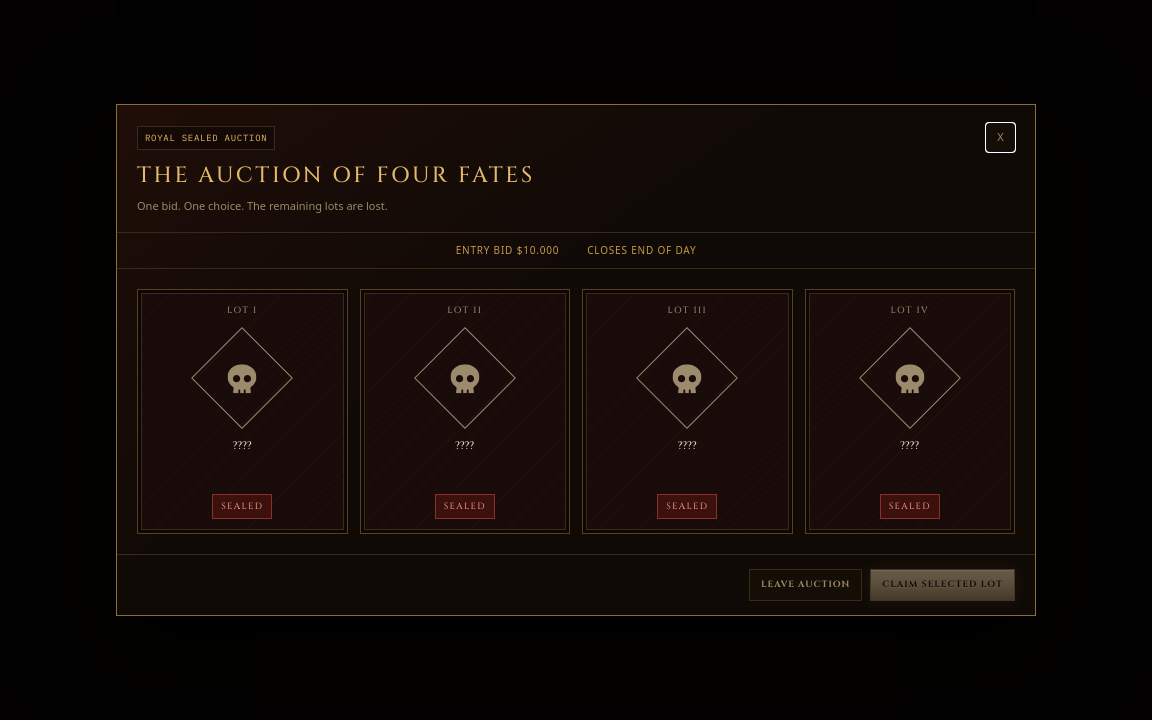
Phase 6A.1 desktop UX › reveals one auction reward, marks three lots LOST and never exposes their content
Click the button "LOT II ???? SEALED".
click(465, 412)  # box [360,289,570,534]
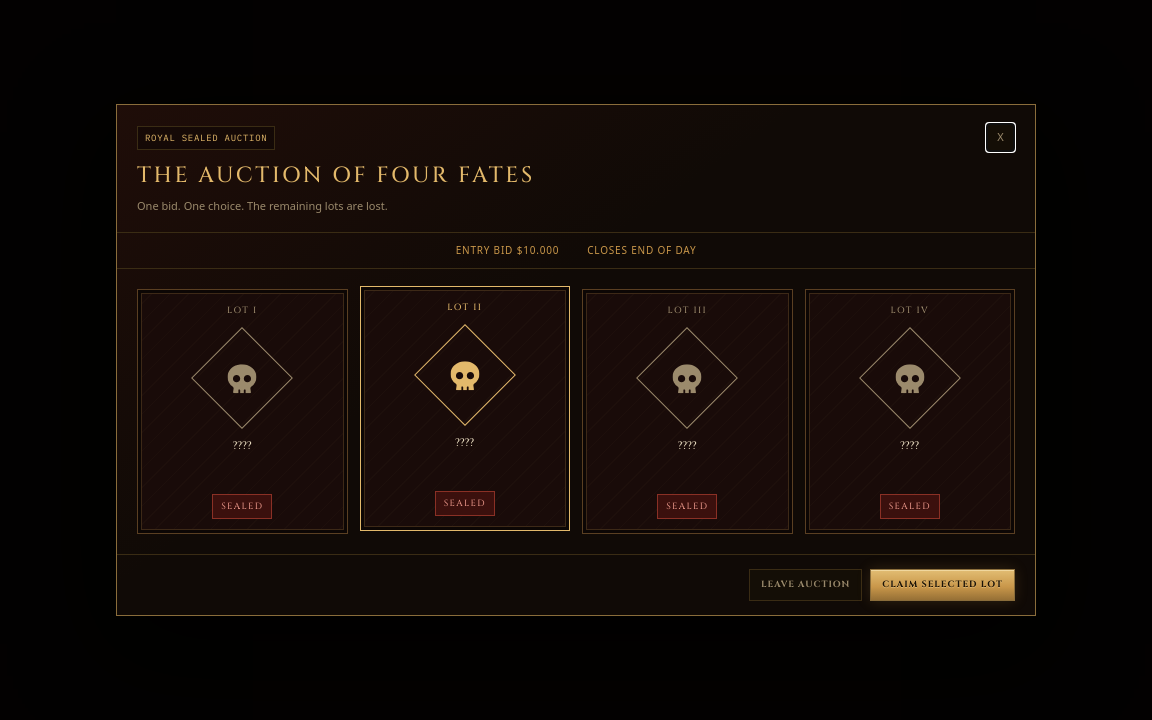
Click the button "CLAIM SELECTED LOT".
click(943, 585)  # box [870,569,1015,601]
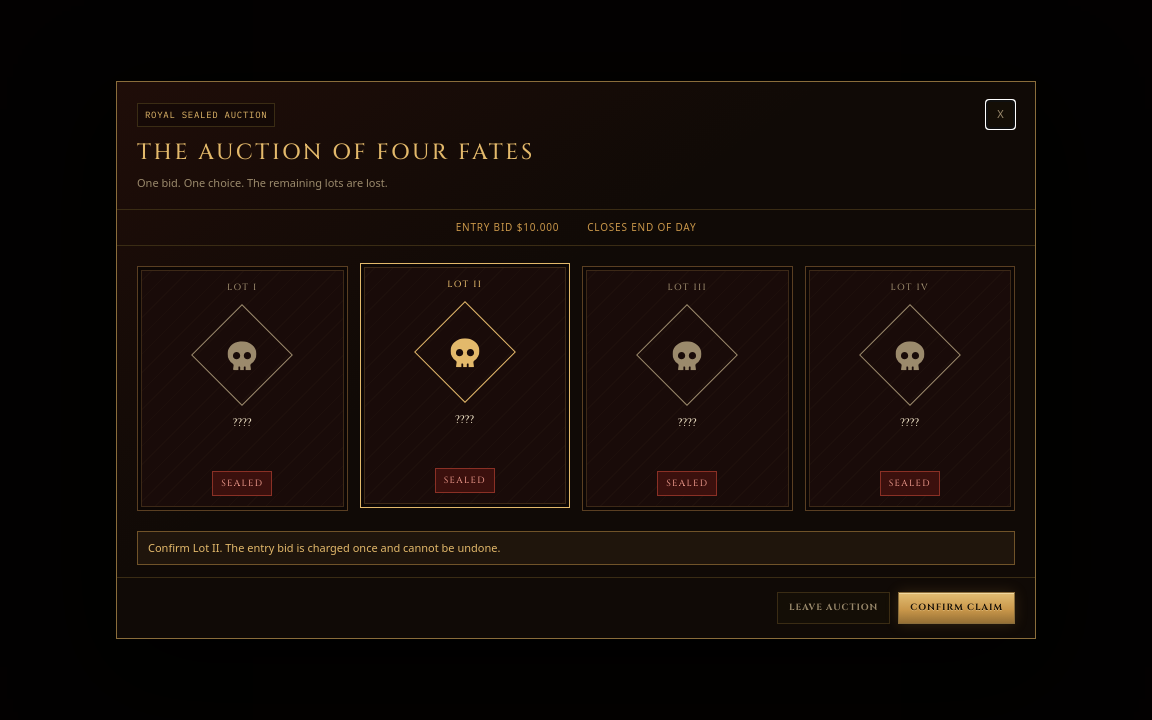
Click the button "CONFIRM CLAIM".
click(957, 608)  # box [898,592,1015,624]
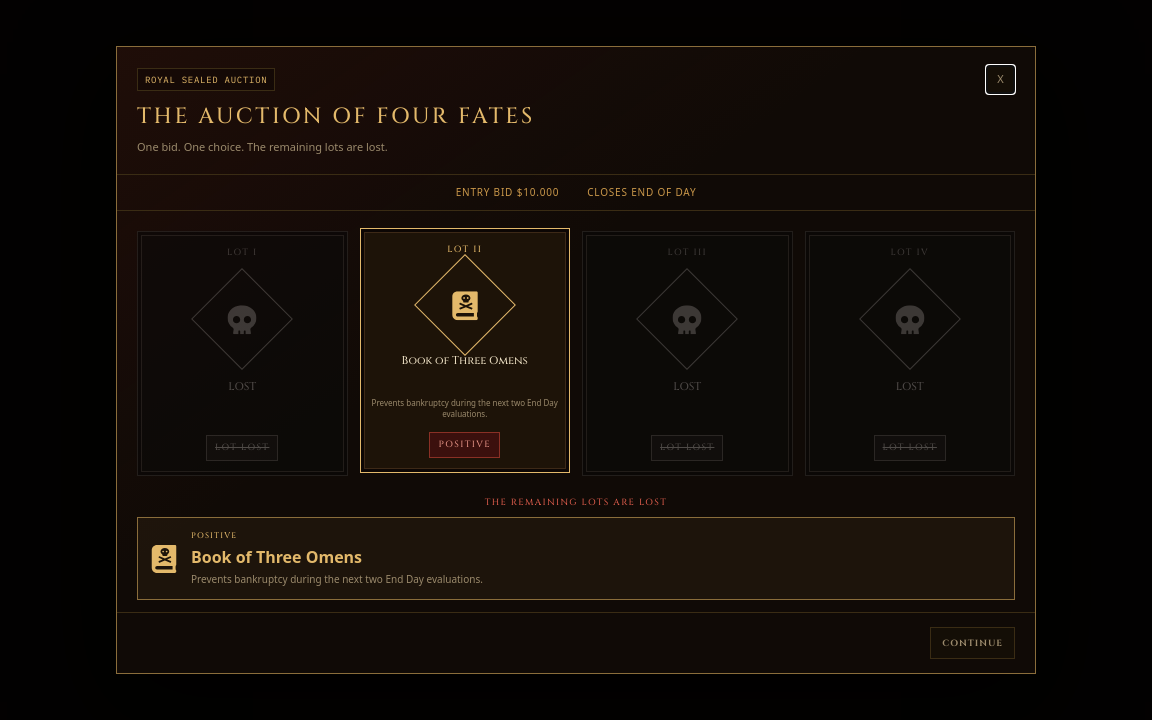
Expected: the text "THE REMAINING LOTS ARE LOST" is shown, [485,496,667,508]
Expected: the button "????" is gone
Expected: the button "CONTINUE" is shown, [930,627,1015,659]
